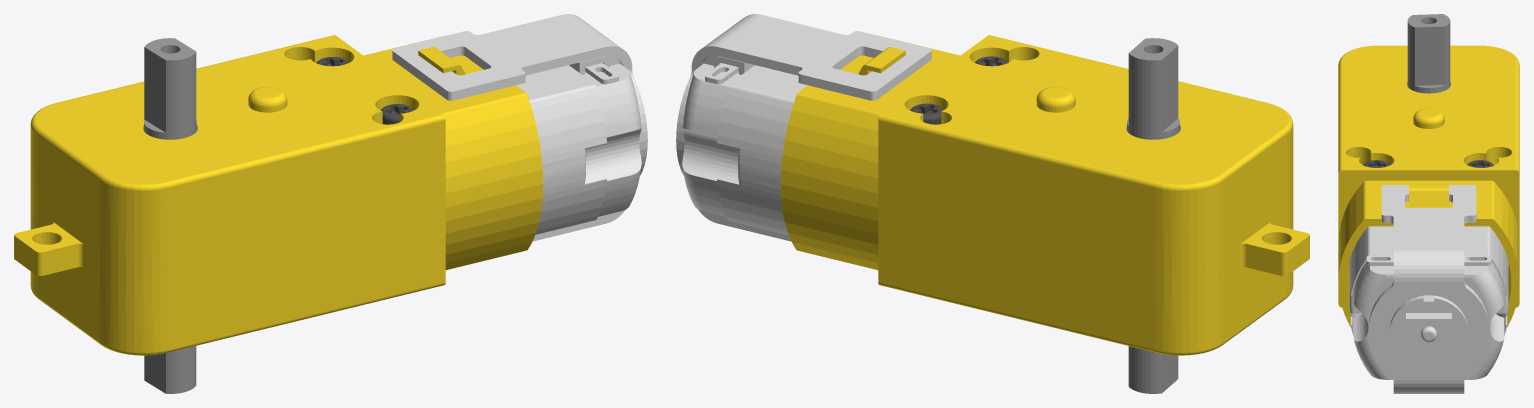
Rendered from dc_motor.glb.
3 renders of one model, left to right at view 1: azimuth 30°, elevation 25°; view 2: azimuth 150°, elevation 25°; view 3: azimuth 270°, elevation 25°, orthographic. The views are drawn at different scales.
Parts seen in each view (by area): view 1: Enveloppe partie 1_0, Enveloppe partie 2_1, Moteur_3, Maintien_2, Engrenage 1_4; view 2: Enveloppe partie 1_0, Enveloppe partie 2_1, Moteur_3, Maintien_2, Engrenage 1_4; view 3: Enveloppe partie 1_0, Maintien_2, Moteur_3, Engrenage 1_4, Enveloppe partie 2_1, Vis 2_6.
Boxes of the visible parts, x1,y1,x2,y2 form: Enveloppe partie 1_0: (14,35,543,278); Enveloppe partie 2_1: (14,184,543,355); Moteur_3: (516,55,641,234); Maintien_2: (392,14,647,241); Engrenage 1_4: (144,38,196,393); Enveloppe partie 1_0: (780,35,1309,278); Enveloppe partie 2_1: (780,184,1309,355); Moteur_3: (682,55,807,234); Maintien_2: (676,14,931,241); Engrenage 1_4: (1127,38,1179,393); Enveloppe partie 1_0: (1338,45,1519,282); Maintien_2: (1368,185,1489,393); Moteur_3: (1349,201,1508,379); Engrenage 1_4: (1407,14,1450,93); Enveloppe partie 2_1: (1338,262,1519,326); Vis 2_6: (1467,160,1493,167).
Size of the model in its own units: 69.15 by 36.8 by 22.5.
